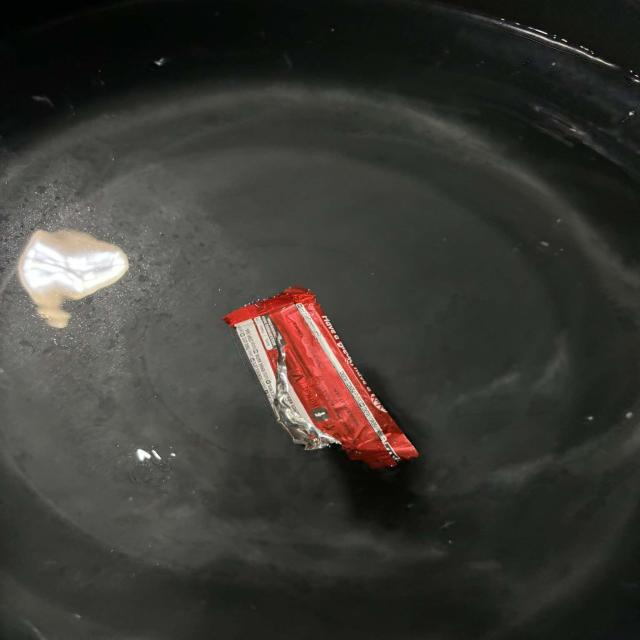Plastic Wrapper: (184, 256, 438, 502)
